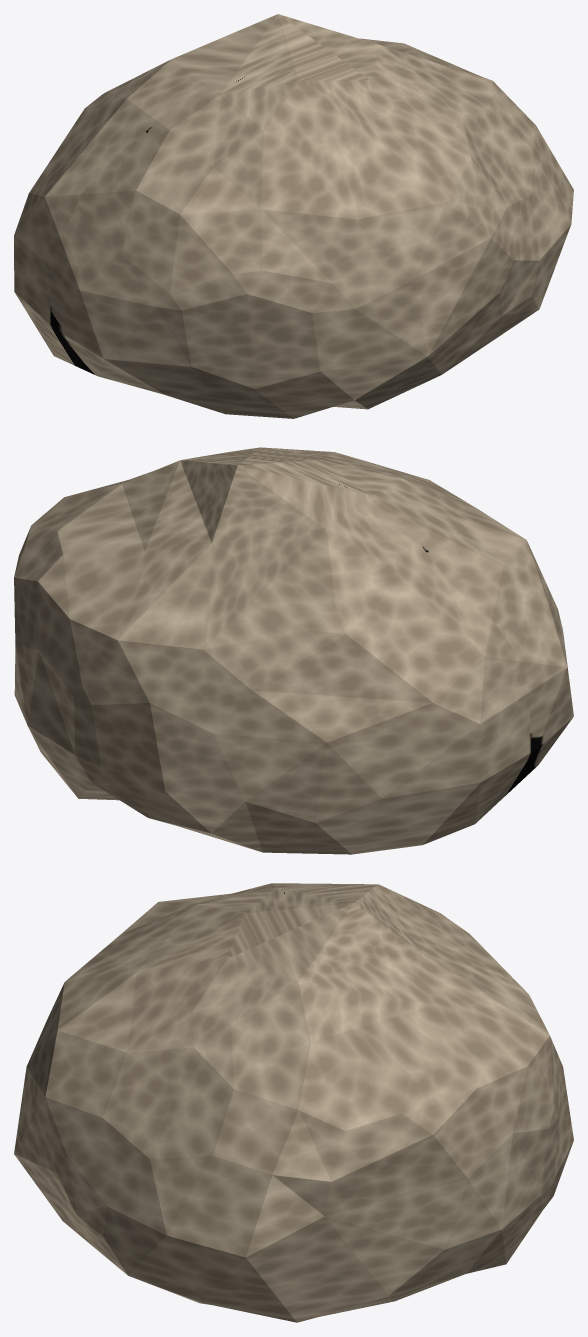
The model's file is 둥근강돌_02.fbx.
3 views of the same model, one above another, from view 1: azimuth 30°, elevation 25°; view 2: azimuth 150°, elevation 25°; view 3: azimuth 270°, elevation 25° (orthographic). The views are drawn at different scales.
Visible parts, largest first — view 1: 둥근강돌_02; view 2: 둥근강돌_02; view 3: 둥근강돌_02.
Boxes of the visible parts, left/top/right/bottom form: 둥근강돌_02: left=14, top=14, right=573, bottom=418; 둥근강돌_02: left=14, top=447, right=573, bottom=854; 둥근강돌_02: left=14, top=883, right=573, bottom=1322.
Size of the model in its own units: 760 by 414 by 662.
Materials: 1 (1 with a texture image).
